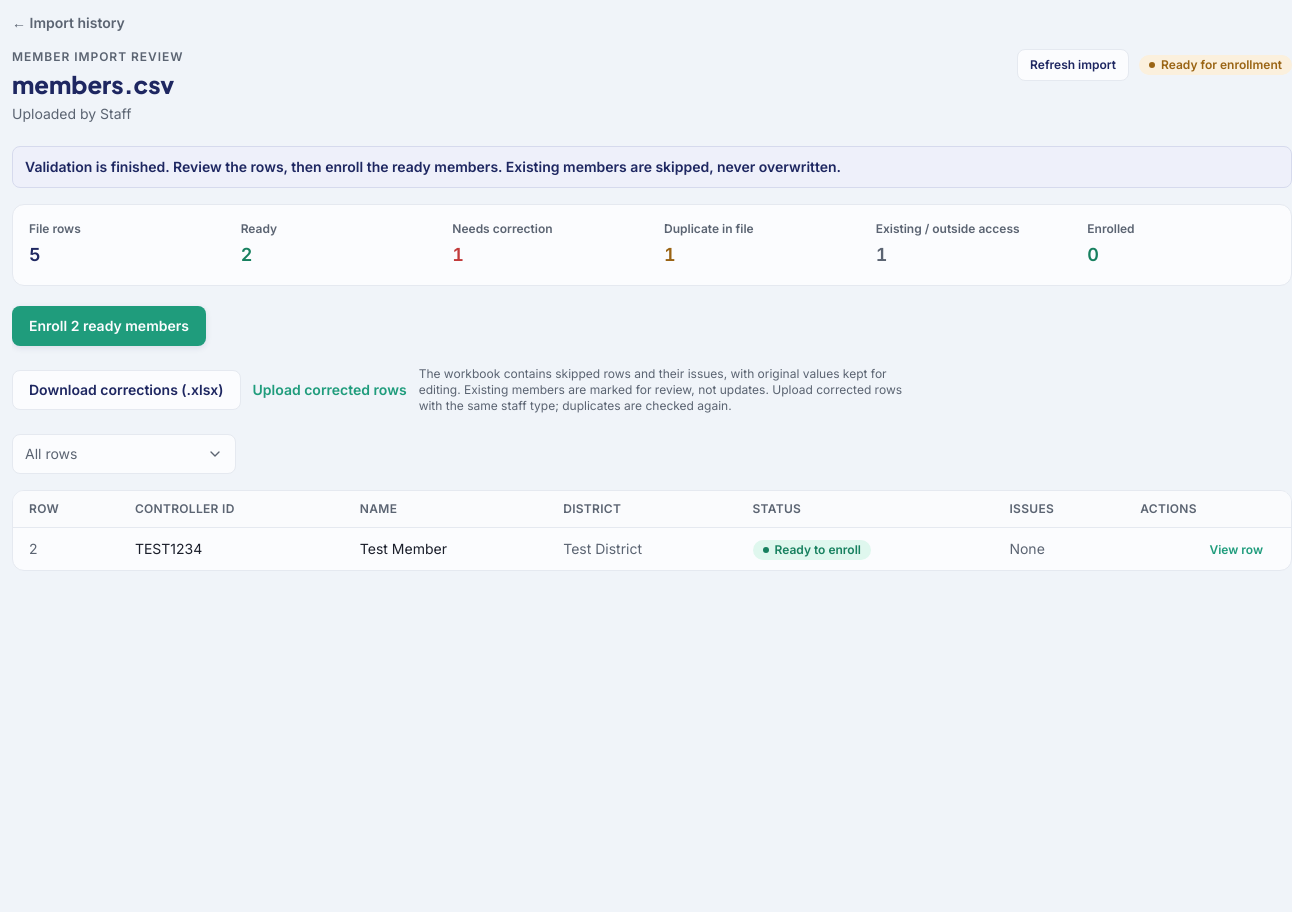
Test: retains loaded rows and the job after failed refreshes without showing a false empty result
expect the text "Test Member" is shown: met, box 344,527 -> 547,570
Click the button "Refresh import": [1073, 65] box 1017,49 -> 1129,81
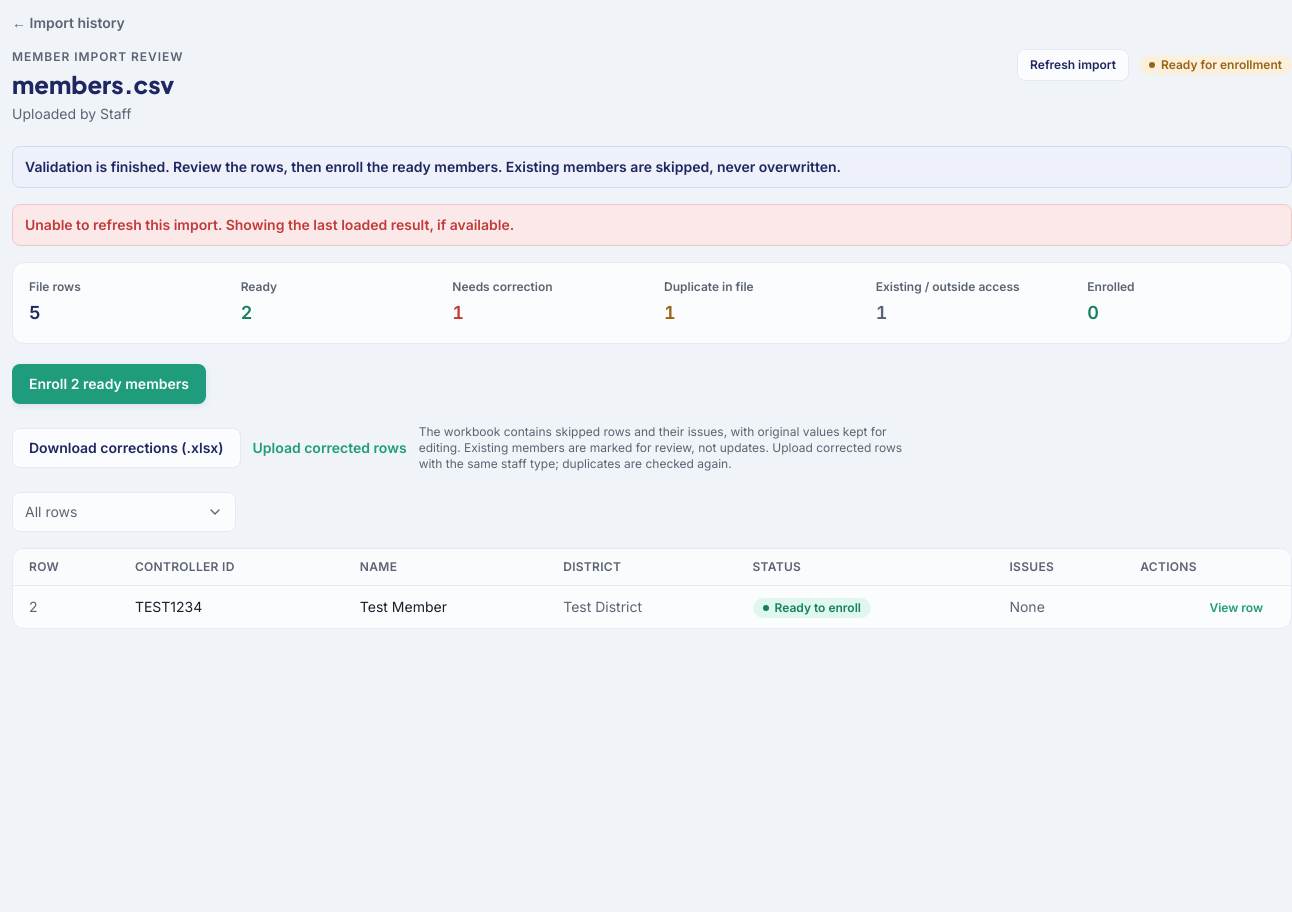
expect the text "Test Member" is shown: met, box 344,585 -> 547,628
expect the text "Unable to refresh this import. Showing the last loaded result, if available." is shown: met, box 12,204 -> 1291,246
